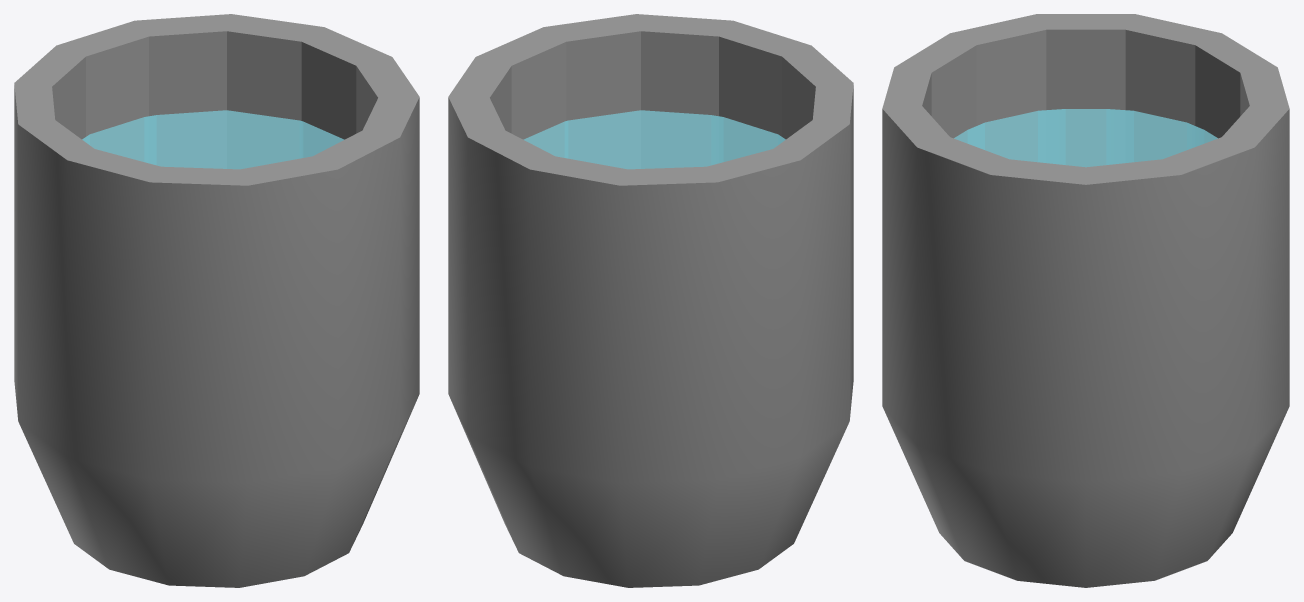
Rendered from Verre.fbx.
The picture shows the model from 3 angles, left to right: view 1: azimuth 30°, elevation 25°; view 2: azimuth 150°, elevation 25°; view 3: azimuth 270°, elevation 25°; orthographic projection.
Visible parts, largest first — view 1: Verre; view 2: Verre; view 3: Verre.
Boxes of the visible parts, x1=… form: Verre: x1=14, y1=14, x2=419, y2=587; Verre: x1=448, y1=14, x2=853, y2=587; Verre: x1=882, y1=14, x2=1289, y2=587.
Bounding box in the file's own units: 1.97 × 2.3 × 1.99.
